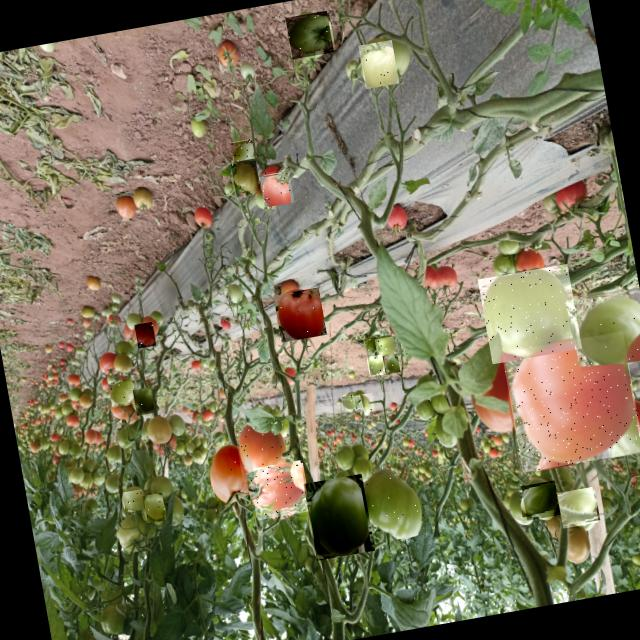Ripe Tomato: (501, 330, 640, 472), (233, 416, 293, 482), (248, 460, 309, 520), (207, 442, 258, 506), (272, 287, 326, 342), (258, 166, 296, 207), (134, 321, 156, 348)
Unripe Tomato: (477, 264, 582, 364), (567, 284, 640, 370), (303, 473, 375, 560), (359, 468, 428, 544), (285, 10, 334, 59), (358, 40, 399, 89), (556, 486, 598, 528), (520, 480, 560, 520), (231, 160, 261, 197), (108, 378, 136, 408), (142, 492, 166, 524), (132, 386, 154, 416), (230, 136, 254, 161), (122, 488, 145, 512), (374, 336, 396, 356), (361, 392, 379, 416), (366, 354, 385, 376), (342, 391, 361, 411), (382, 354, 400, 374), (353, 389, 369, 408), (364, 336, 379, 356)
